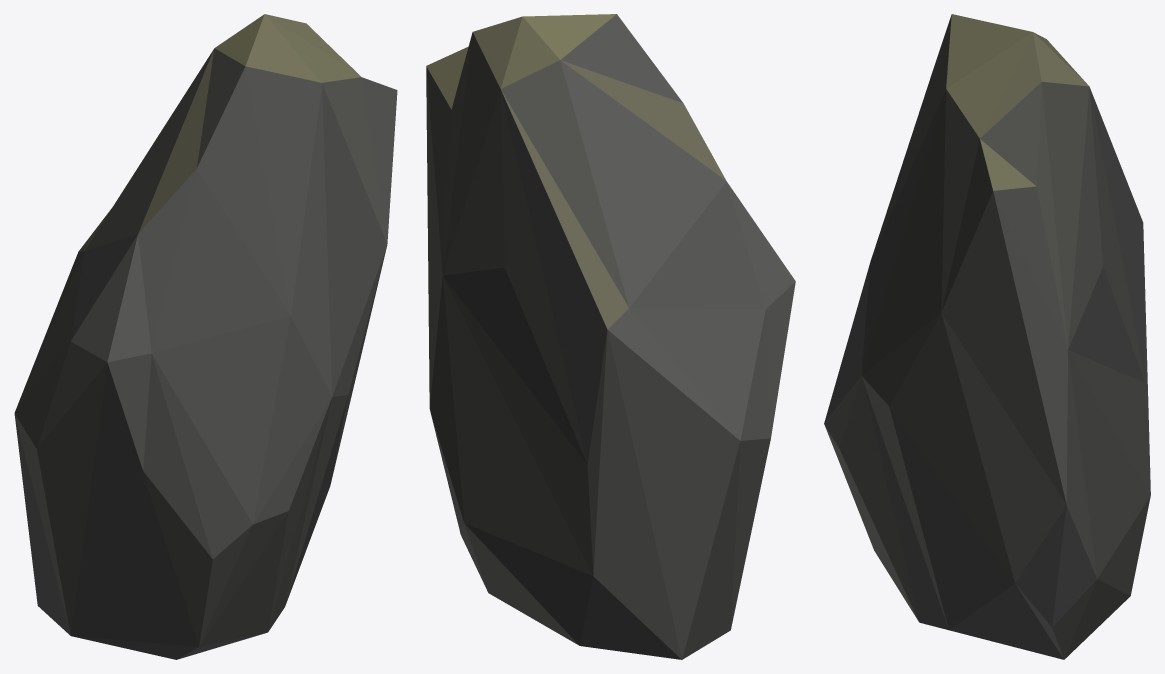
File: rock-tall.glb
3 renders of one model, left to right at view 1: azimuth 30°, elevation 25°; view 2: azimuth 150°, elevation 25°; view 3: azimuth 270°, elevation 25°, orthographic. The views are drawn at different scales.
Parts seen in each view (by area): view 1: rock-tall; view 2: rock-tall; view 3: rock-tall.
Boxes of the visible parts, left/top/right/bottom form: rock-tall: left=14, top=14, right=397, bottom=659; rock-tall: left=426, top=14, right=795, bottom=659; rock-tall: left=824, top=14, right=1150, bottom=659.
Bounding box in the file's own units: 0.823 × 1.27 × 0.6096.
